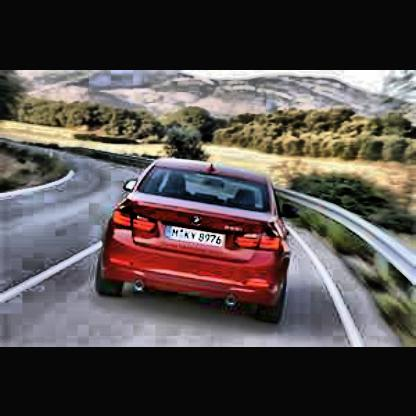BMW 3 Series Sedan 2012: (94, 156, 295, 326)
